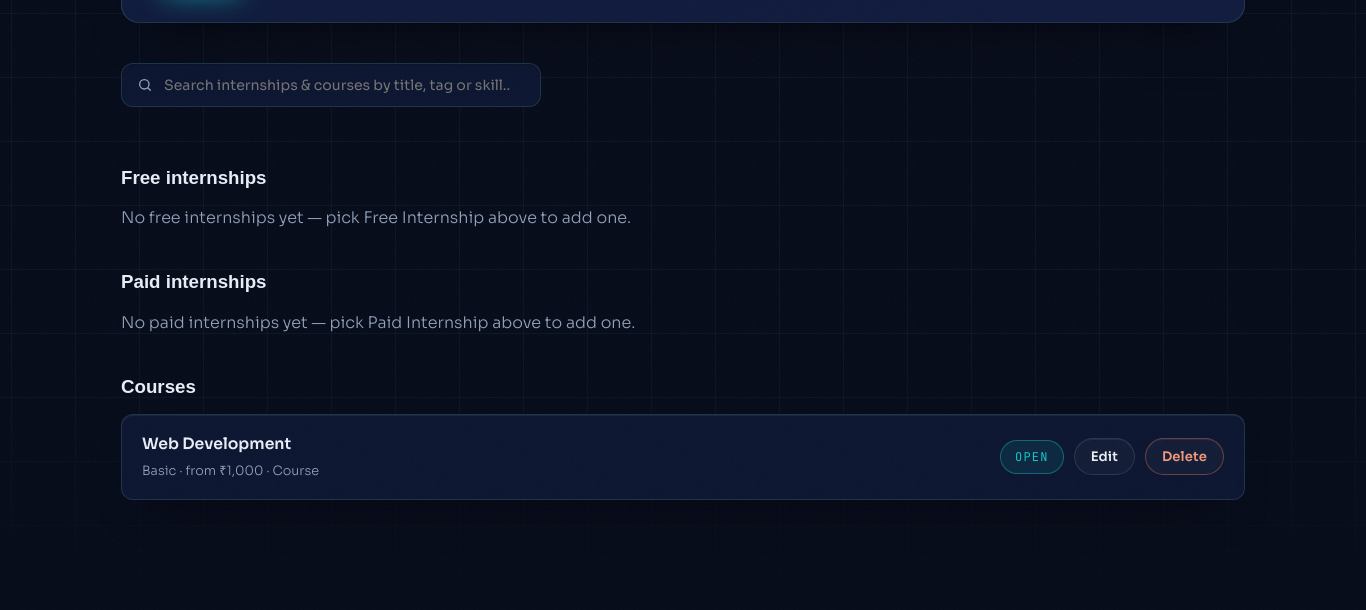
Scenario: admin course form › loads what is already saved into the form when editing
(page scrolled)
Click the button "Edit" at (1104, 457), box top-left (1074, 438), bottom-right (1135, 475)
(page scrolled)
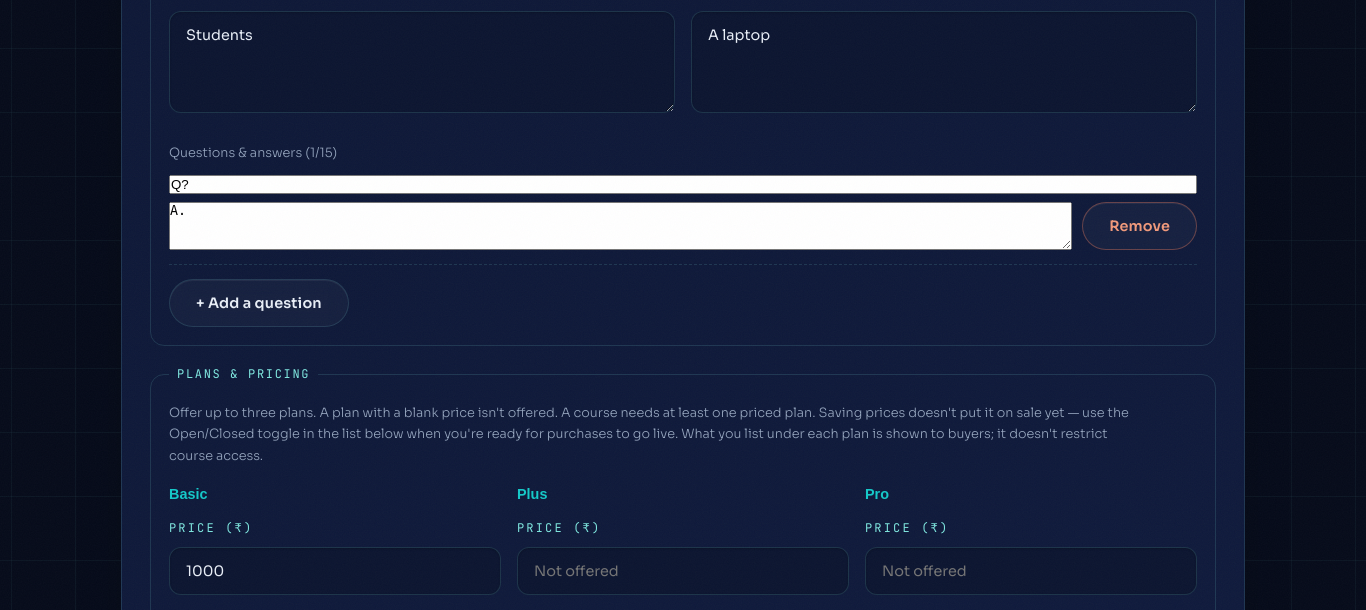
Now the text box with id "cc-audience" holds "Students", box top-left (169, 11), bottom-right (675, 113)
Now the text box with id "cc-prereq" holds "A laptop", box top-left (691, 11), bottom-right (1197, 113)
Now the field named "Question 1" holds "Q?", box top-left (169, 175), bottom-right (1197, 194)
